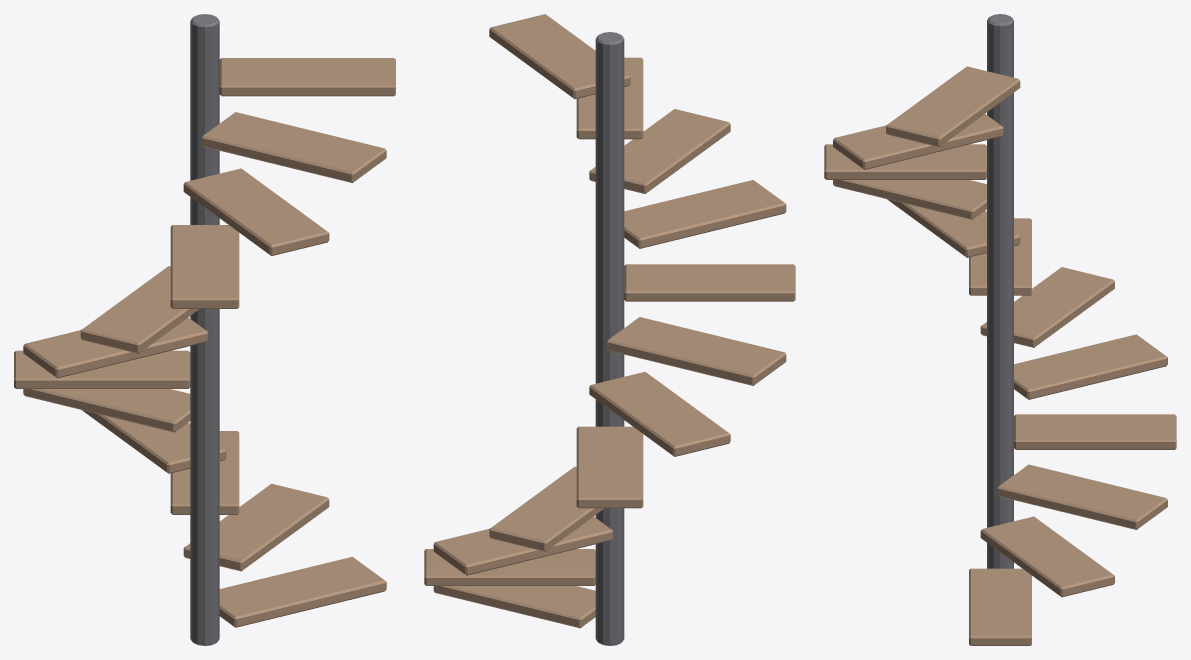
The model's file is SM_Stairs_Spiral.fbx.
3 views of the same model, side by side, from view 1: azimuth 30°, elevation 25°; view 2: azimuth 150°, elevation 25°; view 3: azimuth 270°, elevation 25° (orthographic). The views are drawn at different scales.
Parts seen in each view (by area): view 1: Stairs_Spiral; view 2: Stairs_Spiral; view 3: Stairs_Spiral.
Boxes of the visible parts, <box> form: Stairs_Spiral: <box>14,14,395,645</box>; Stairs_Spiral: <box>424,14,795,645</box>; Stairs_Spiral: <box>824,14,1176,645</box>.
Size of the model in its own units: 156 by 280 by 156.
